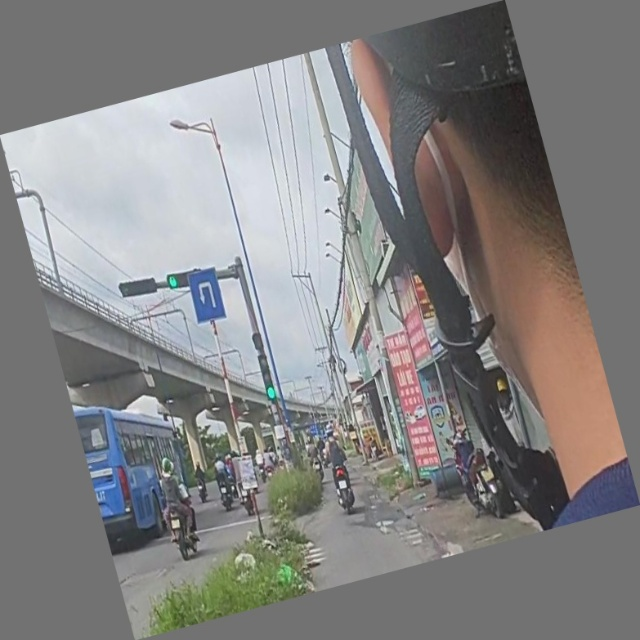I.409: (183, 262, 231, 329)
